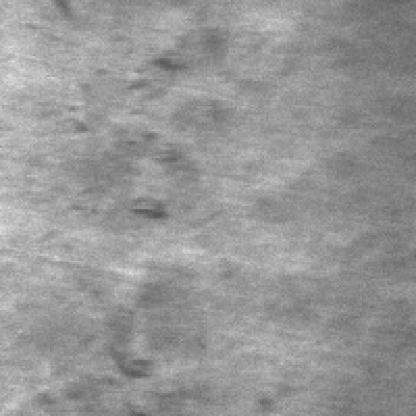rolled-in_scale: (110, 43, 214, 233)
